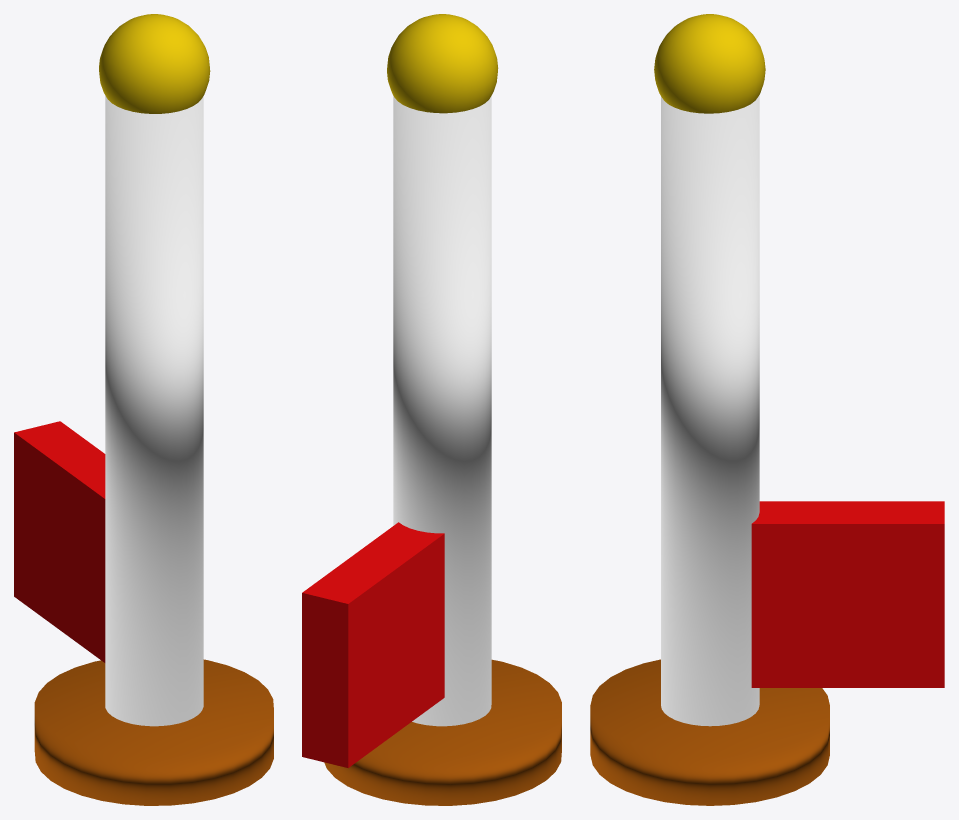
The model's file is flag.glb.
The picture shows the model from 3 angles, left to right: view 1: azimuth 30°, elevation 25°; view 2: azimuth 150°, elevation 25°; view 3: azimuth 270°, elevation 25°; orthographic projection.
Visible parts, largest first — view 1: Cylinder, Cube; view 2: Cylinder, Cube; view 3: Cylinder, Cube.
Boxes of the visible parts, bbox=[...] form: Cylinder: bbox=[34, 14, 273, 805]; Cube: bbox=[14, 421, 105, 662]; Cylinder: bbox=[324, 14, 561, 805]; Cube: bbox=[302, 522, 444, 767]; Cylinder: bbox=[590, 14, 829, 805]; Cube: bbox=[751, 501, 944, 687].
Size of the model in its own units: 1.14 by 3.87 by 1.69.
